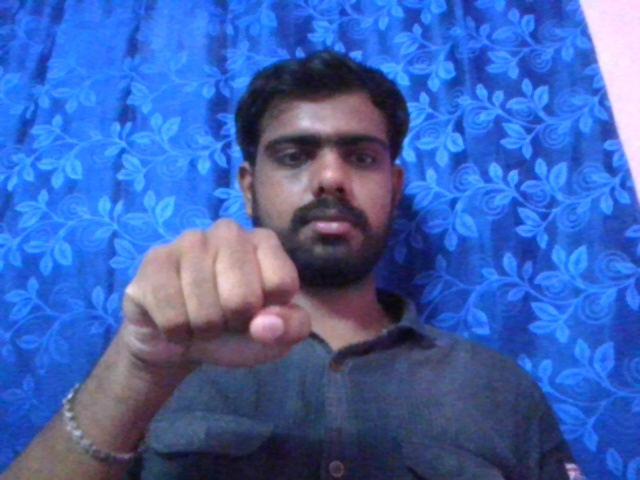Yes: (113, 217, 314, 378)
